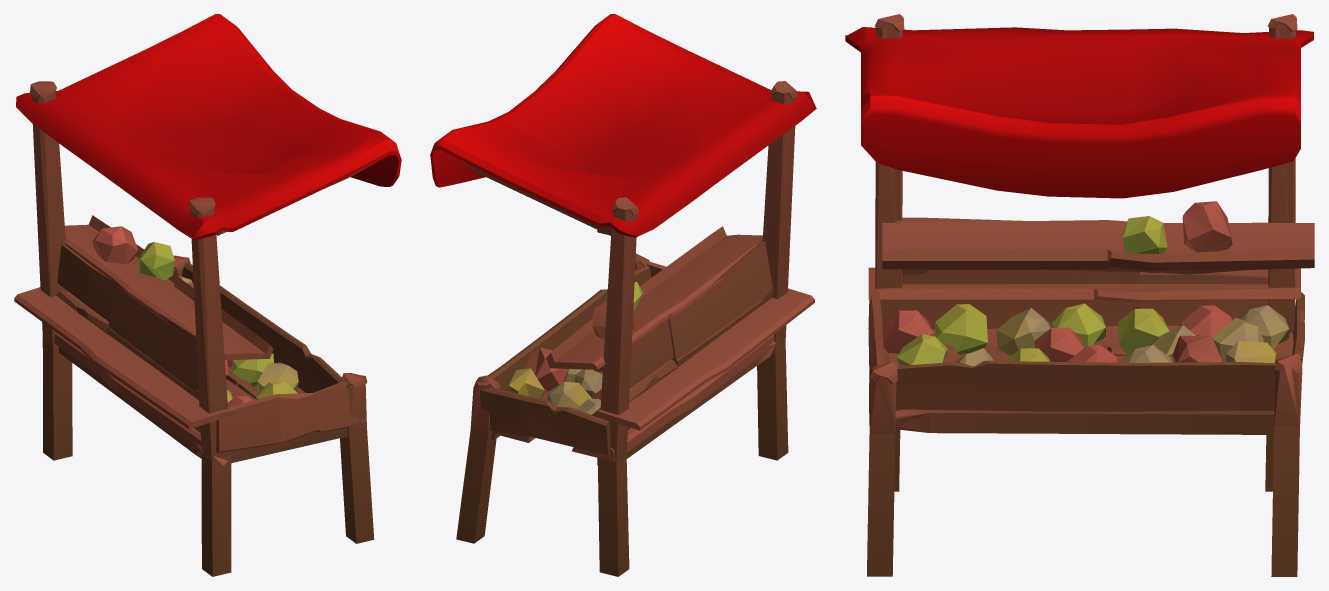
The model's file is MarketStand_Red.fbx.
3 views of the same model, side by side, from view 1: azimuth 30°, elevation 25°; view 2: azimuth 150°, elevation 25°; view 3: azimuth 270°, elevation 25° (orthographic). The views are drawn at different scales.
Parts seen in each view (by area): view 1: MarketStand_Red; view 2: MarketStand_Red; view 3: MarketStand_Red.
Part boxes in pixels (x1,y1,x2,y2): MarketStand_Red: [14, 14, 401, 576]; MarketStand_Red: [430, 14, 816, 576]; MarketStand_Red: [845, 14, 1314, 576].
Bounding box in the file's own units: 1.89 × 3.35 × 2.91.
